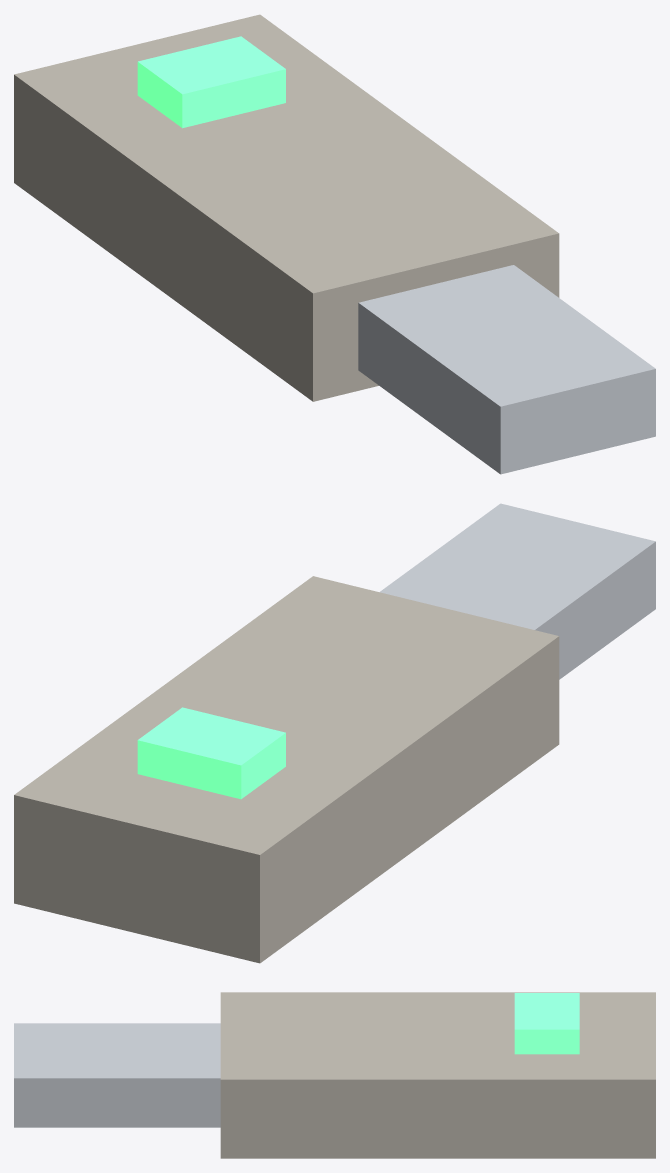
The model's file is usb.glb.
3 renders of one model, top to bottom at view 1: azimuth 30°, elevation 25°; view 2: azimuth 150°, elevation 25°; view 3: azimuth 270°, elevation 25°, orthographic. The views are drawn at different scales.
Visible parts, largest first — view 1: usb; view 2: usb; view 3: usb.
Part boxes in pixels (bbox=[...]): usb: bbox=[14, 14, 655, 474]; usb: bbox=[14, 503, 655, 963]; usb: bbox=[14, 992, 655, 1158].
Bounding box in the file's own units: 0.019 × 0.0105 × 0.059.
